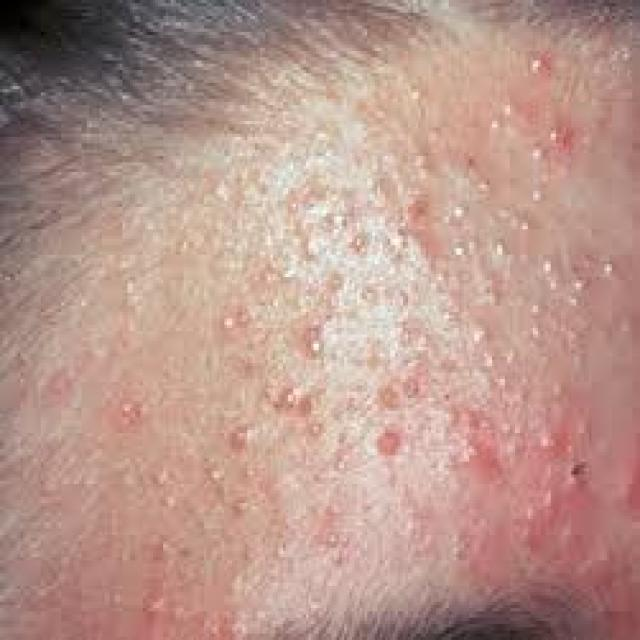Acne: (444, 402, 506, 489), (391, 198, 439, 273), (518, 486, 559, 547), (294, 316, 330, 360), (371, 421, 407, 465), (563, 452, 596, 495), (216, 300, 254, 336), (547, 116, 579, 156), (137, 584, 168, 625), (117, 394, 153, 429), (524, 44, 552, 84), (226, 421, 256, 453)
